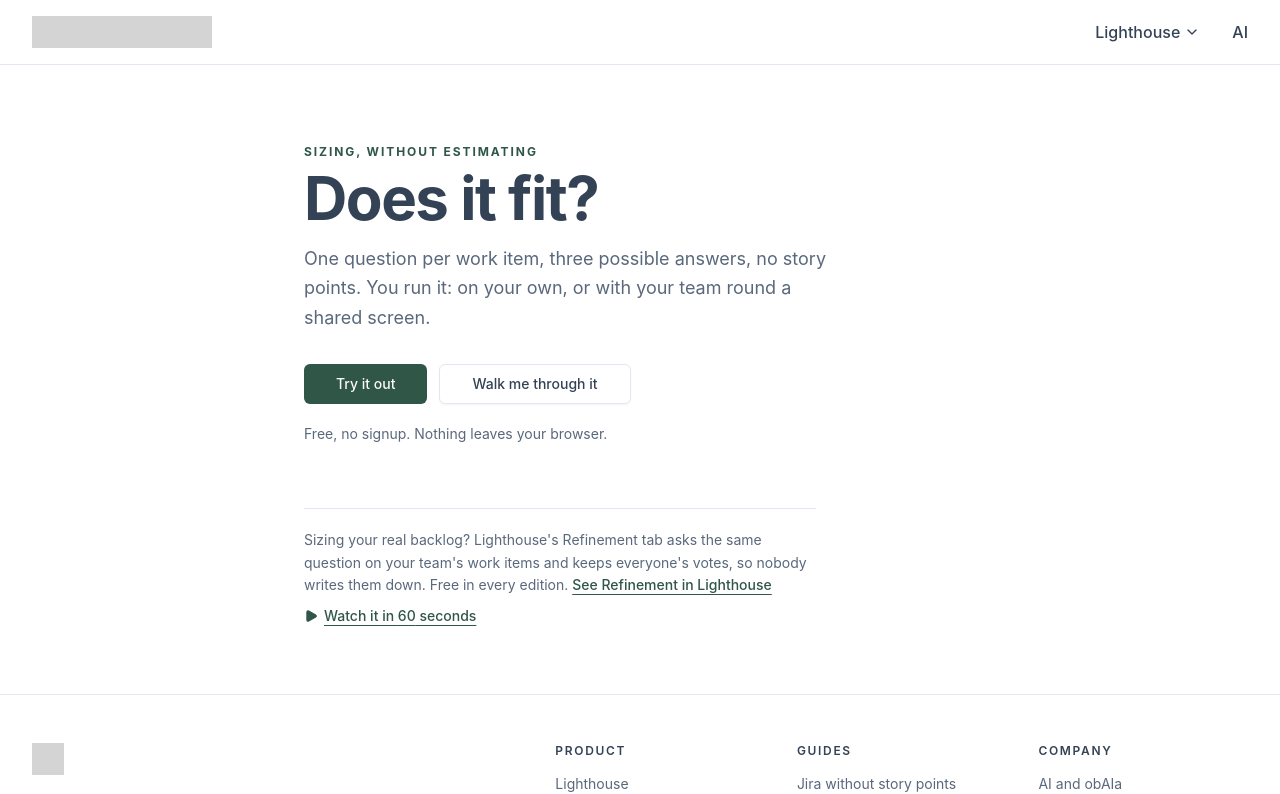
Test: the way in › offers an example backlog so nobody has to invent one
This screenshot has width=1280, height=794.
Click the button "Try it out": (366, 384) [304,364,427,404]
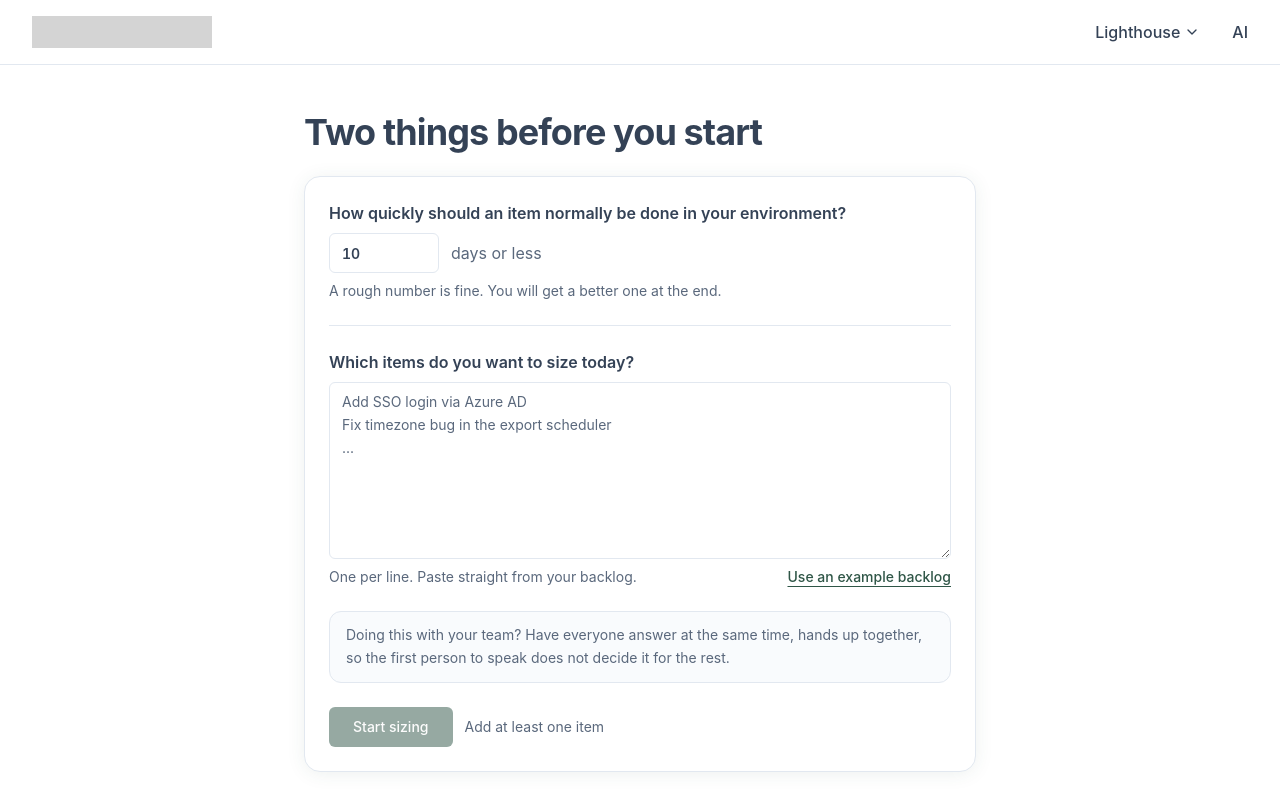
Expected: the text with test id "sizing-item-count" reads "Add at least one item", [464,718,604,735]
Click the button "Use an example backlog": (869, 577) [788,567,951,587]
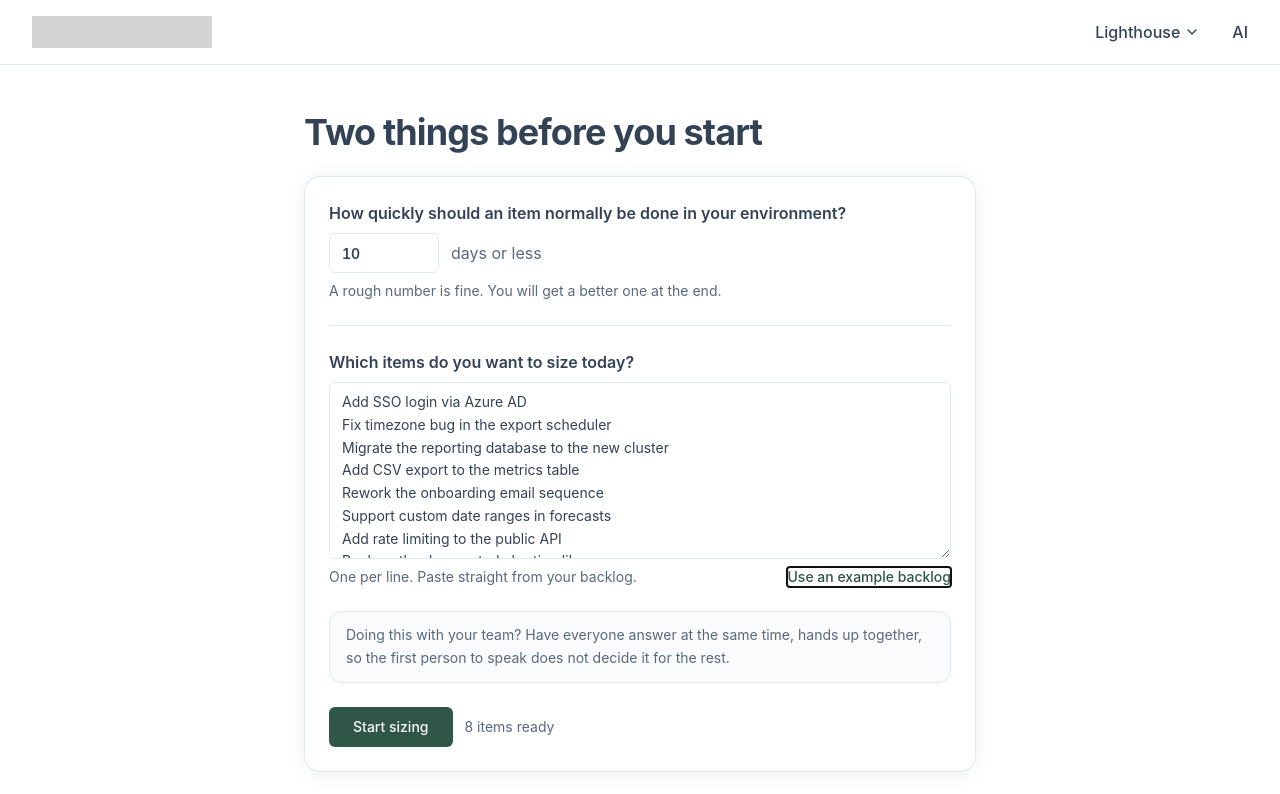
Expected: the text with test id "sizing-item-count" reads "8 items ready", [464,718,554,735]
